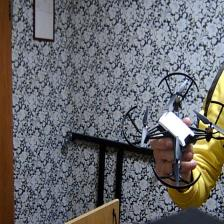drone: (121, 70, 224, 194)
